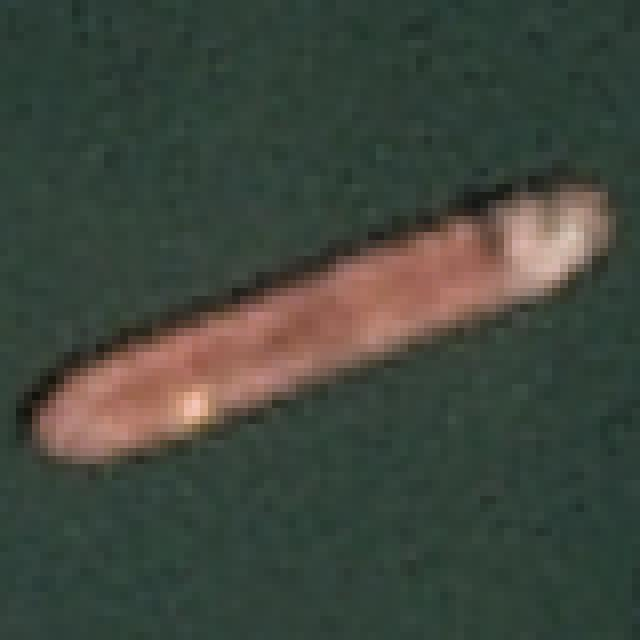ship: (18, 140, 630, 498)
